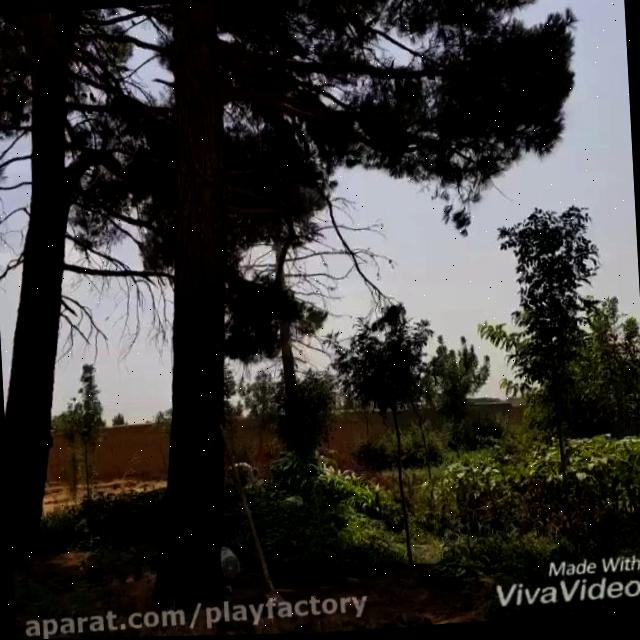drone: (323, 283, 338, 296)
